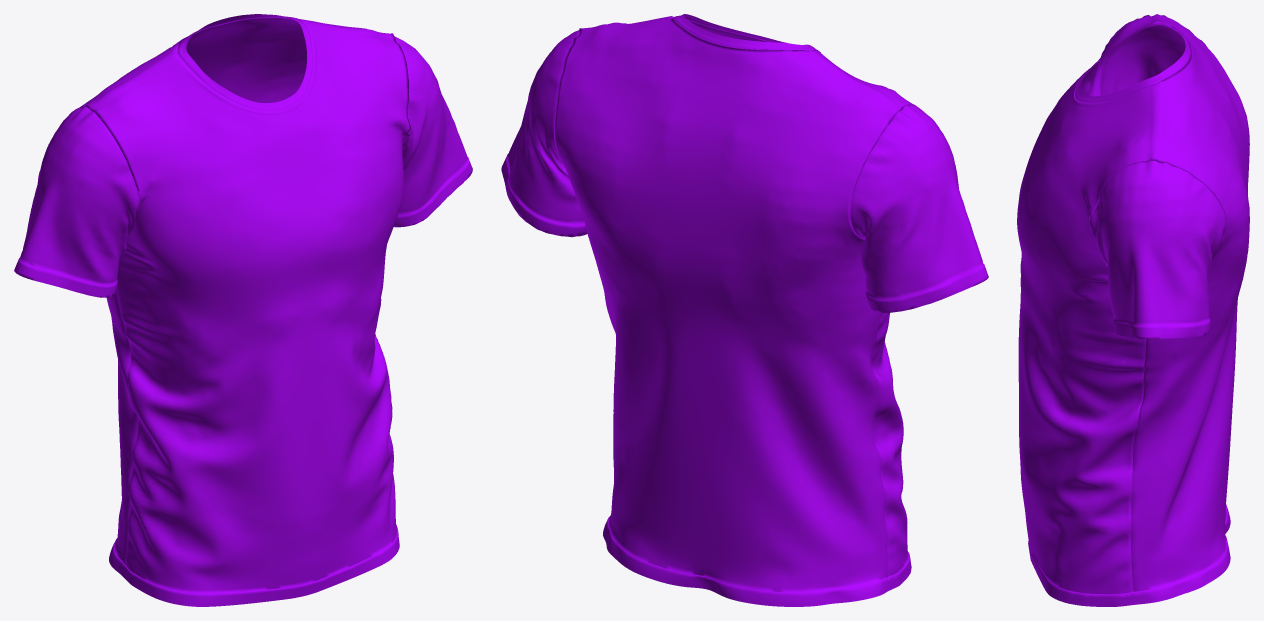
The model's file is TshirtPajaro_.glb.
3 renders of one model, left to right at view 1: azimuth 30°, elevation 25°; view 2: azimuth 150°, elevation 25°; view 3: azimuth 270°, elevation 25°, orthographic. The views are drawn at different scales.
Parts seen in each view (by area): view 1: Object_4_Object_0; view 2: Object_4_Object_0; view 3: Object_4_Object_0.
Part boxes in pixels (box(x1,y1,x2,y2)): Object_4_Object_0: box(14, 14, 472, 606); Object_4_Object_0: box(501, 14, 988, 606); Object_4_Object_0: box(1017, 14, 1249, 606).
Bounding box in the file's own units: 0.6394 × 0.6992 × 0.2895.
